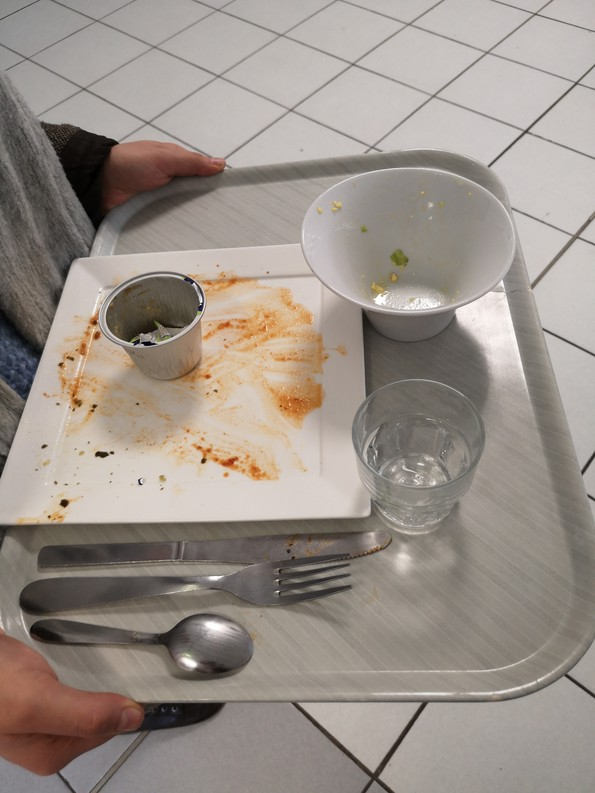cup: (336, 381, 485, 530)
cutlery: (12, 546, 354, 621), (21, 613, 259, 675), (17, 535, 402, 572)
trash: (97, 271, 224, 381)
